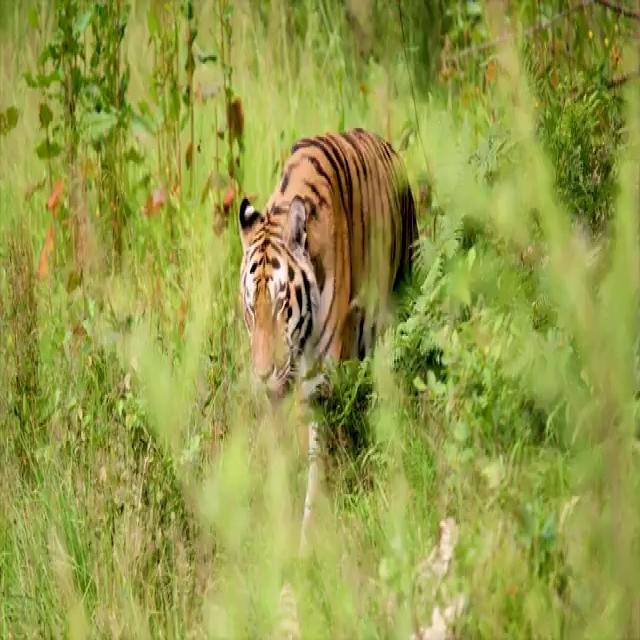tiger: (237, 124, 425, 556)
